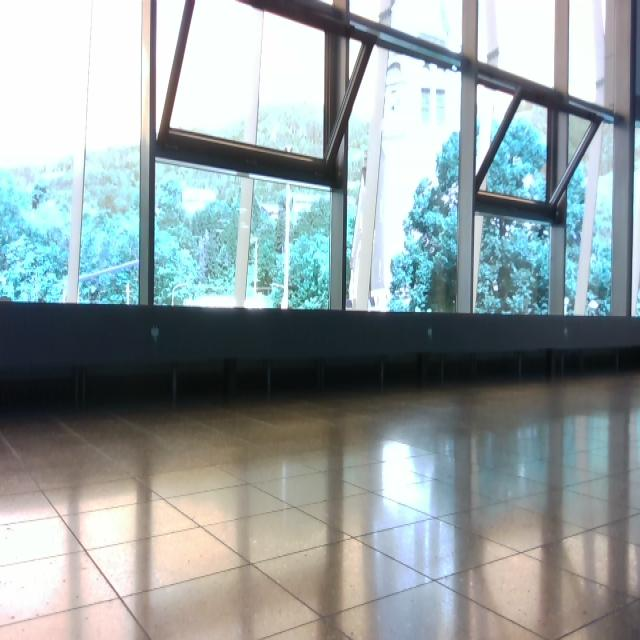door: (2, 1, 639, 638)
light bulb: (182, 186, 217, 216), (261, 202, 280, 220), (589, 300, 599, 310)
pillar: (349, 1, 395, 310)
tiled floor: (2, 372, 639, 638)
window: (1, 1, 640, 318)
